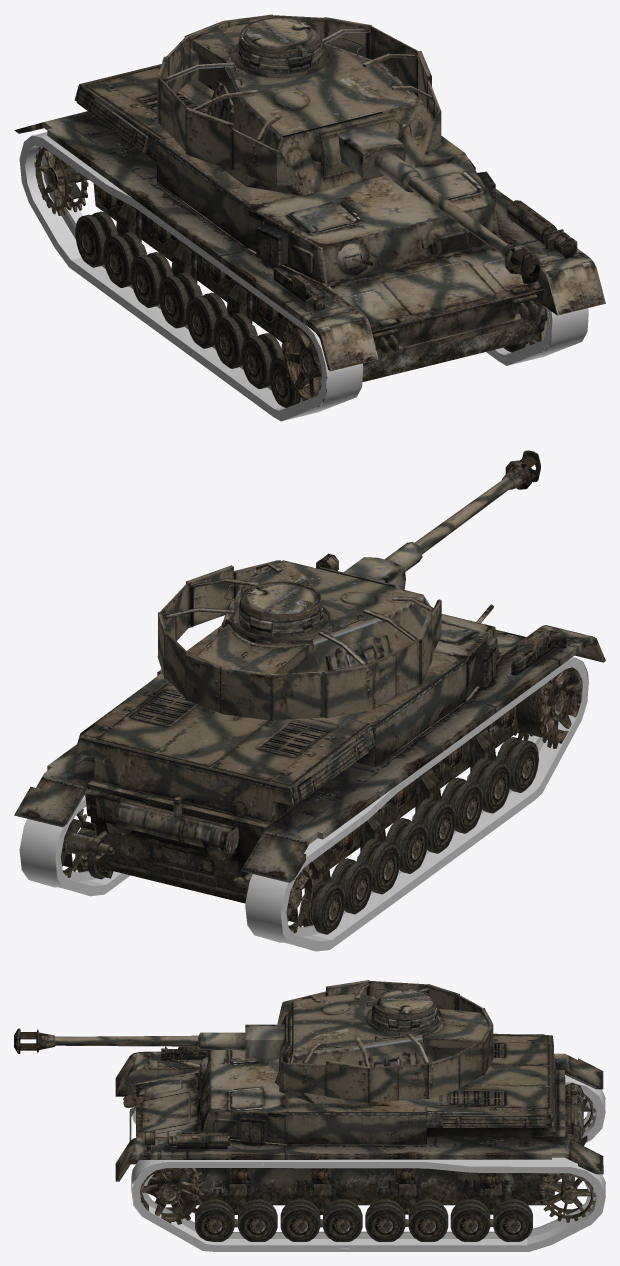
Rendered from Tank.FBX.
The picture shows the model from 3 angles, top to bottom: view 1: azimuth 30°, elevation 25°; view 2: azimuth 150°, elevation 25°; view 3: azimuth 270°, elevation 25°; orthographic projection. The views are drawn at different scales.
Visible parts, largest first — view 1: DrawCall_0, DrawCall_1, DrawCall_8, Chain, Wheel, DrawCall_7, DrawCall_6; view 2: DrawCall_0, DrawCall_1, DrawCall_8, Chain, Wheel, DrawCall_6, DrawCall_7; view 3: DrawCall_0, DrawCall_1, DrawCall_8, Chain, Wheel, DrawCall_7, DrawCall_6.
Boxes of the visible parts, x1=… form: DrawCall_0: x1=14, y1=64, x2=605, y2=382; DrawCall_1: x1=157, y1=14, x2=441, y2=195; DrawCall_8: x1=75, y1=18, x2=525, y2=407; Chain: x1=19, y1=132, x2=588, y2=421; Wheel: x1=34, y1=146, x2=550, y2=407; DrawCall_7: x1=319, y1=115, x2=422, y2=192; DrawCall_6: x1=408, y1=176, x2=540, y2=284; DrawCall_0: x1=14, y1=553, x2=605, y2=925; DrawCall_1: x1=157, y1=560, x2=441, y2=720; DrawCall_8: x1=75, y1=583, x2=538, y2=934; Chain: x1=19, y1=657, x2=588, y2=951; Wheel: x1=60, y1=667, x2=582, y2=933; DrawCall_6: x1=414, y1=450, x2=540, y2=553; DrawCall_7: x1=320, y1=542, x2=422, y2=589; DrawCall_0: x1=115, y1=1033, x2=603, y2=1227; DrawCall_1: x1=274, y1=980, x2=493, y2=1103; DrawCall_8: x1=171, y1=989, x2=532, y2=1241; Chain: x1=131, y1=1075, x2=605, y2=1251; Wheel: x1=140, y1=1093, x2=596, y2=1224; DrawCall_7: x1=198, y1=1014, x2=287, y2=1067; DrawCall_6: x1=14, y1=1028, x2=198, y2=1053.
Size of the model in its own units: 84.22 by 76.75 by 203.
